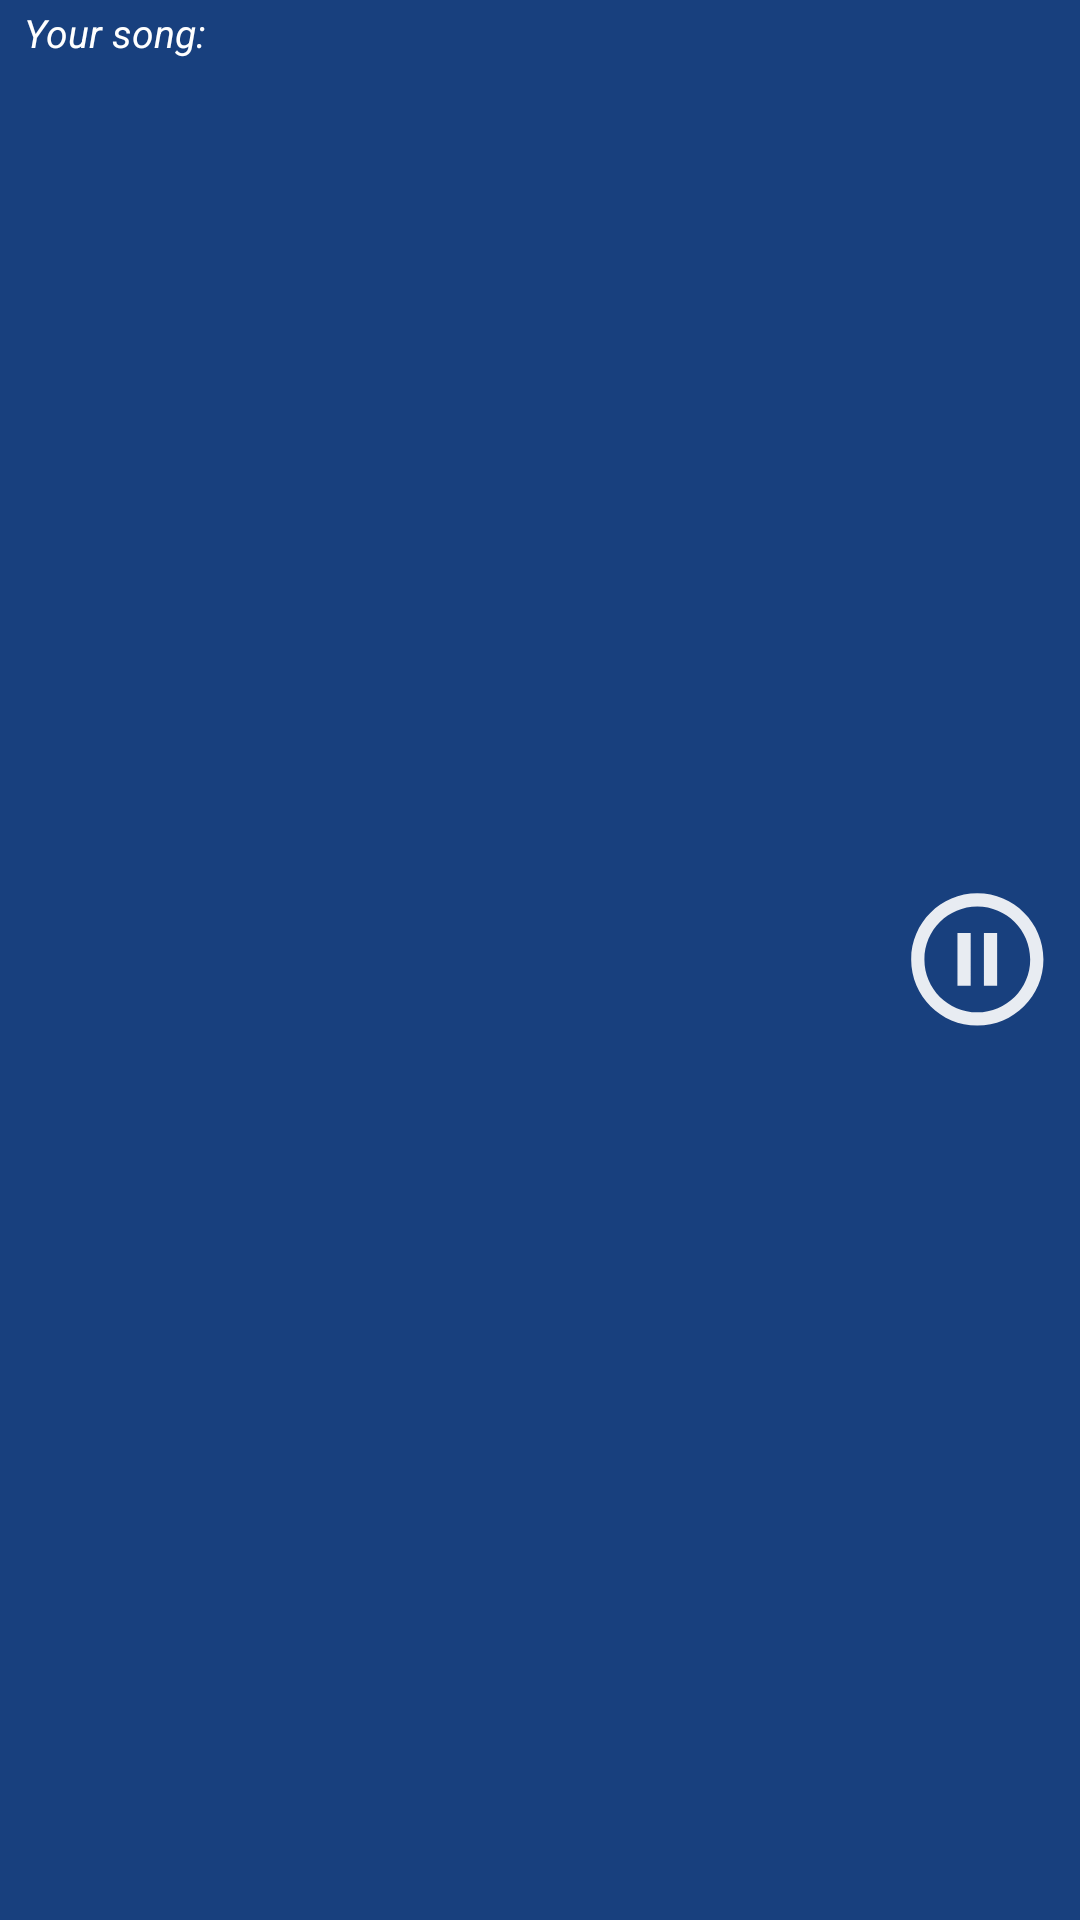

Screen size 1080*1920. Icon name, then its center in pixels as [x,y]:
pause: [977,959]
